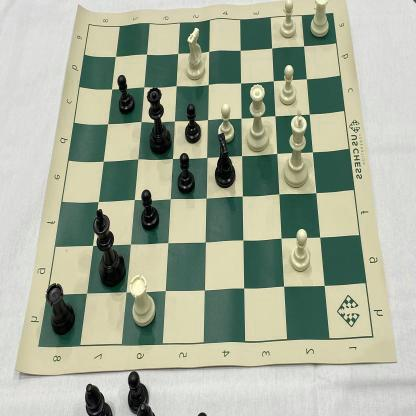black-king: (92, 206, 127, 290)
black-knight: (212, 134, 236, 189)
black-pawn: (138, 186, 162, 233), (176, 148, 198, 197), (183, 102, 204, 146), (116, 72, 136, 116)
black-queen: (147, 85, 174, 157)
black-rook: (46, 280, 76, 338)
white-king: (280, 108, 312, 190)
white-knight: (185, 23, 207, 82)
white-pawn: (290, 224, 312, 275), (278, 62, 299, 108), (217, 100, 237, 144), (278, 0, 299, 41)
white-queen: (243, 80, 270, 155)
white-rook: (128, 272, 158, 330), (308, 0, 334, 38)
